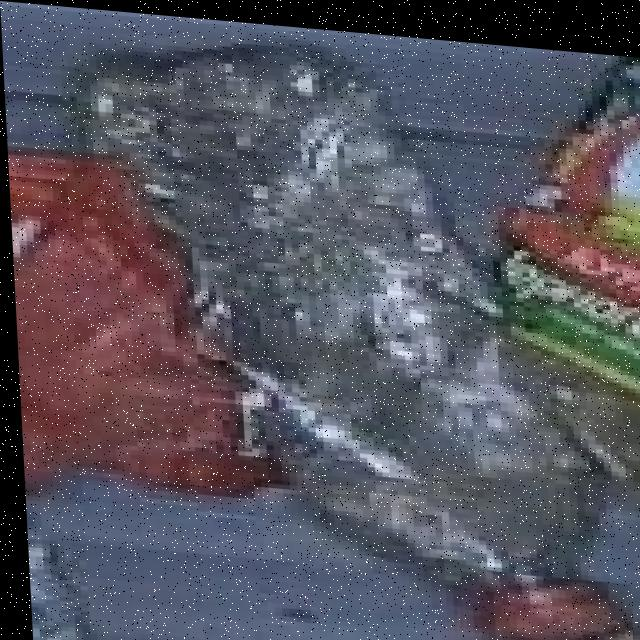litter: (448, 560, 628, 640)
